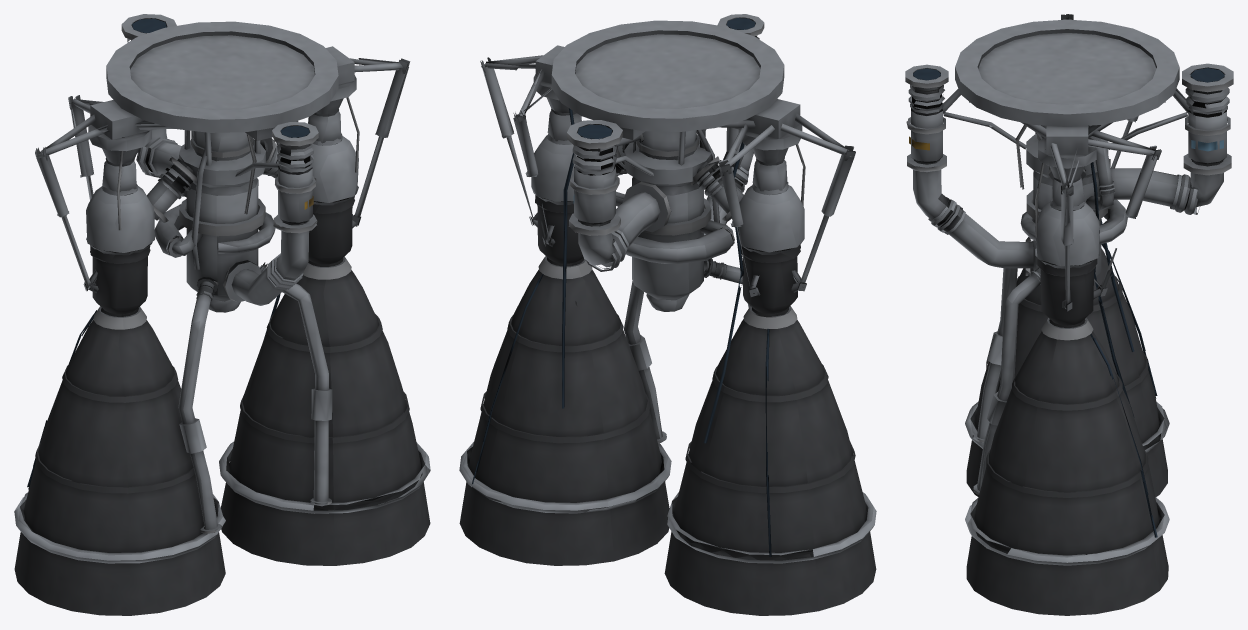
The model's file is eng_kerolox_staged_combustion.glb.
3 views of the same model, side by side, from view 1: azimuth 30°, elevation 25°; view 2: azimuth 150°, elevation 25°; view 3: azimuth 270°, elevation 25° (orthographic). The views are drawn at different scales.
Parts seen in each view (by area): view 1: eng_kerolox_staged_combustion_mesh; view 2: eng_kerolox_staged_combustion_mesh; view 3: eng_kerolox_staged_combustion_mesh.
Boxes of the visible parts, x1,y1,x2,y2 form: eng_kerolox_staged_combustion_mesh: [14, 14, 430, 615]; eng_kerolox_staged_combustion_mesh: [459, 14, 876, 615]; eng_kerolox_staged_combustion_mesh: [905, 14, 1233, 615].
Bounding box in the file's own units: 3.08 × 3.6 × 2.34.
Materials: 1 (1 with a texture image).
